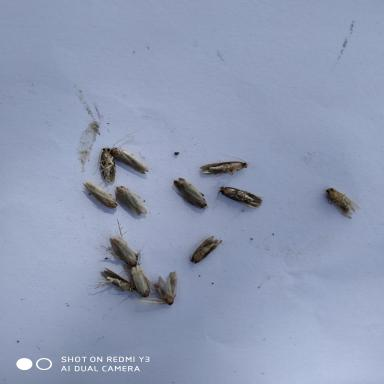pbw: (101, 231, 151, 271), (103, 181, 151, 220), (209, 178, 266, 210), (169, 176, 216, 213), (119, 261, 160, 303), (194, 152, 254, 179), (184, 231, 224, 271), (90, 266, 140, 298), (84, 143, 121, 186), (320, 185, 364, 221), (146, 271, 184, 312), (102, 145, 152, 176), (76, 181, 123, 211)
